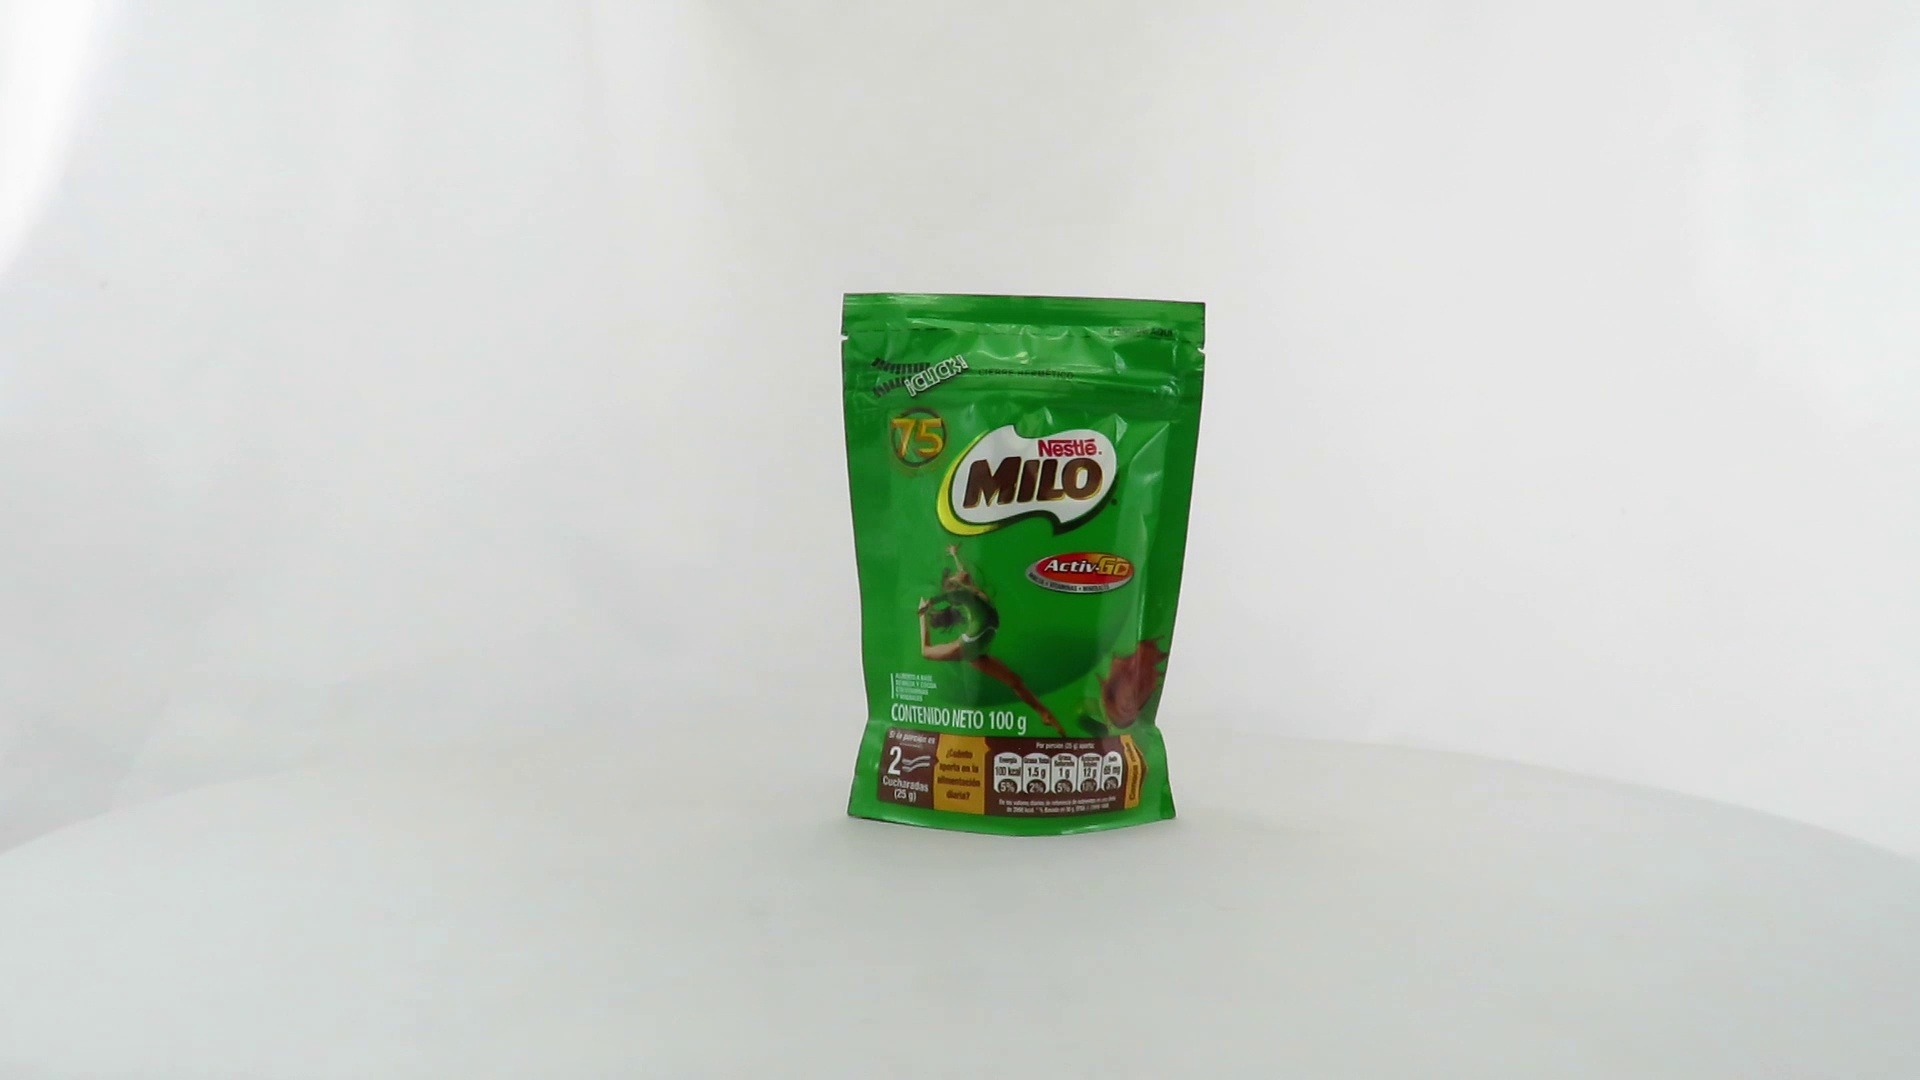COL0170203DYP10000: (835, 287, 1212, 843)
